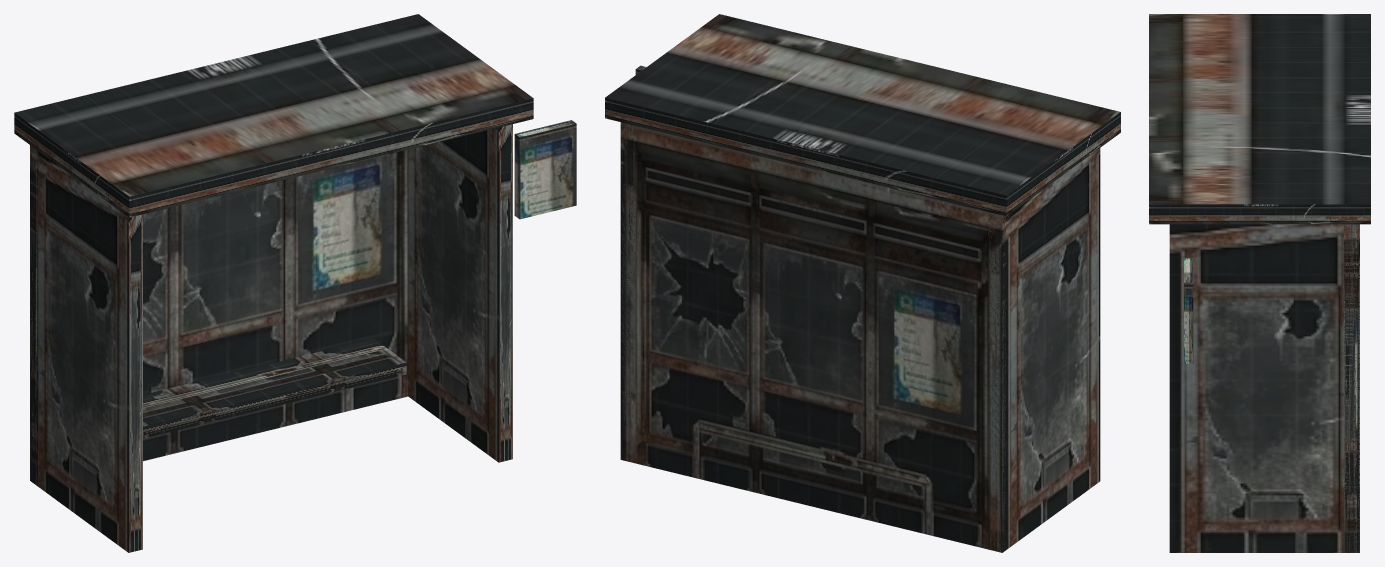
Rendered from sf_bus_stop_shelter.glb.
3 renders of one model, left to right at view 1: azimuth 30°, elevation 25°; view 2: azimuth 150°, elevation 25°; view 3: azimuth 270°, elevation 25°, orthographic. The views are drawn at different scales.
Parts seen in each view (by area): view 1: DecayedBusStopShelter_Root, DecayedBusStopShelter_AnimPart; view 2: DecayedBusStopShelter_Root; view 3: DecayedBusStopShelter_Root, DecayedBusStopShelter_AnimPart.
Part boxes in pixels (x1=…): DecayedBusStopShelter_Root: x1=14, y1=14, x2=533, y2=552; DecayedBusStopShelter_AnimPart: x1=514, y1=120, x2=576, y2=219; DecayedBusStopShelter_Root: x1=605, y1=14, x2=1120, y2=552; DecayedBusStopShelter_Root: x1=1149, y1=14, x2=1370, y2=552; DecayedBusStopShelter_AnimPart: x1=1184, y1=258, x2=1193, y2=363.
Size of the model in its own units: 3.27 by 2.46 by 1.4.
Materials: 1 (1 with a texture image).
